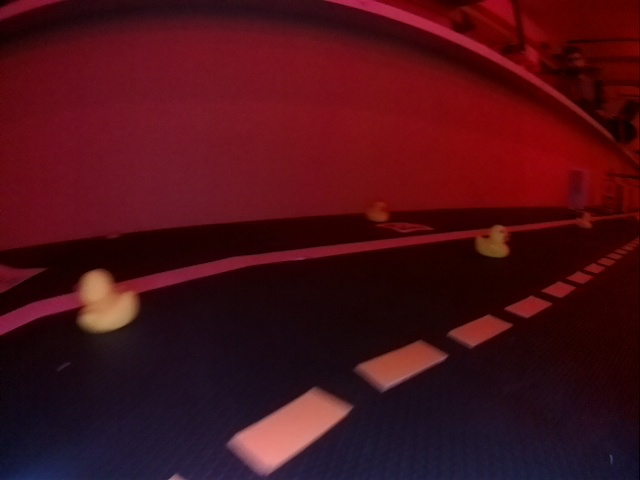Duckie: (77, 270, 140, 330), (475, 225, 509, 256), (368, 204, 389, 221), (578, 215, 593, 229)
QR code: (382, 224, 428, 232)
